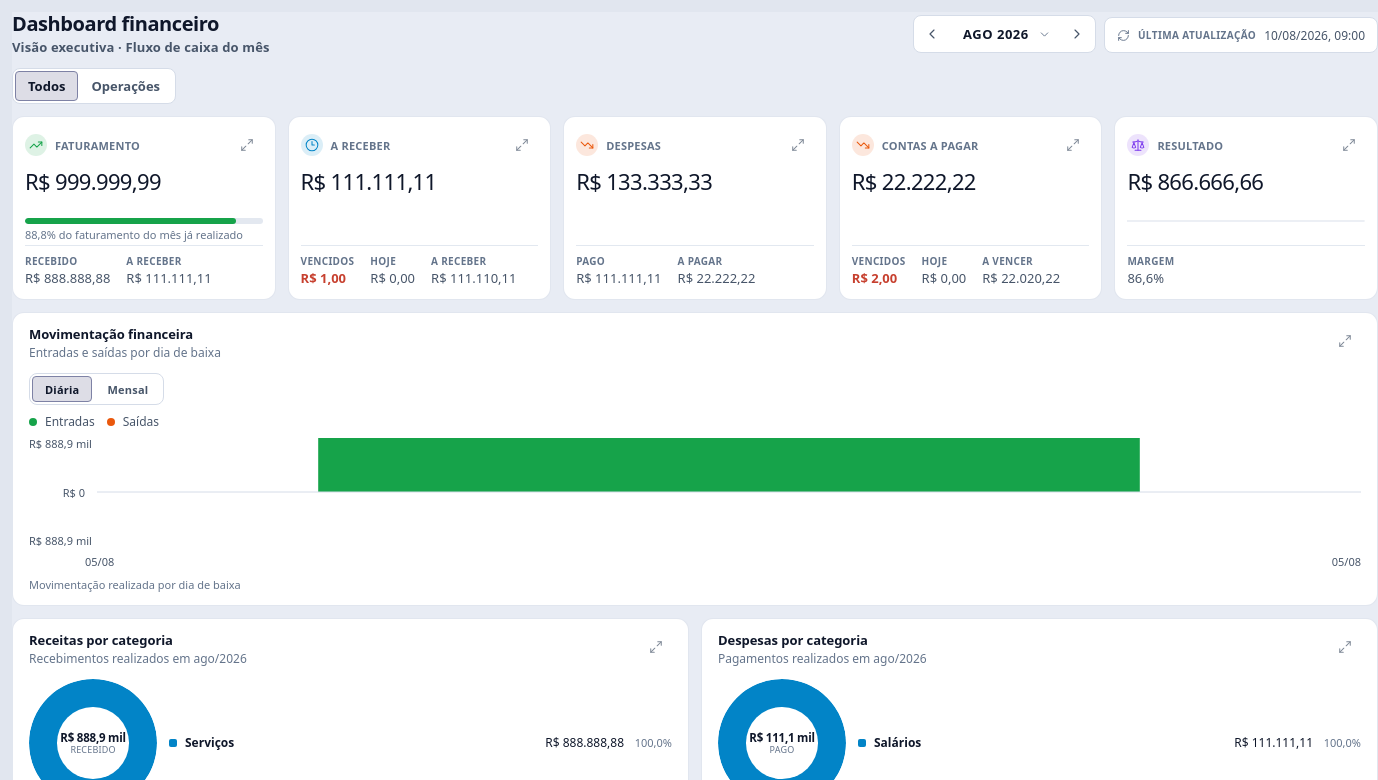
it: Dashboard V2.3 fidelidade › seletor de mês é compacto e abre os doze meses do ano
Expected: the button named "Mês anterior" is shown, 916,18 -> 948,50
Expected: the button named "Próximo mês" is shown, 1061,18 -> 1093,50
Click the button "AGO 2026".
click(1004, 34)  # box 950,19 -> 1059,49
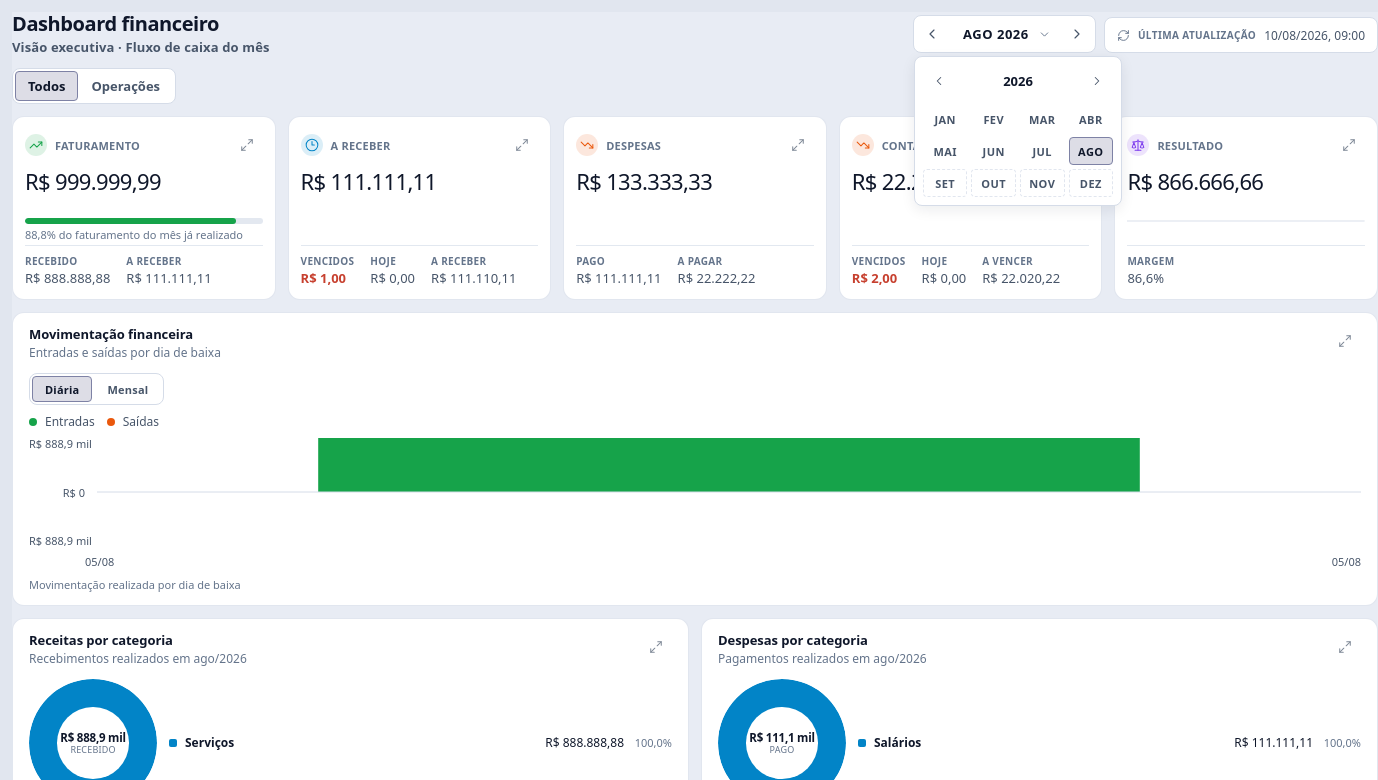
Expected: the button with aria-label "ago 2026, Atual" is shown, 1068,137 -> 1113,165
Expected: the button with aria-label "jul 2026, Competência" is shown, 1020,137 -> 1064,165
Expected: the button with aria-label "set 2026, Previsto" is shown, 923,169 -> 967,197
